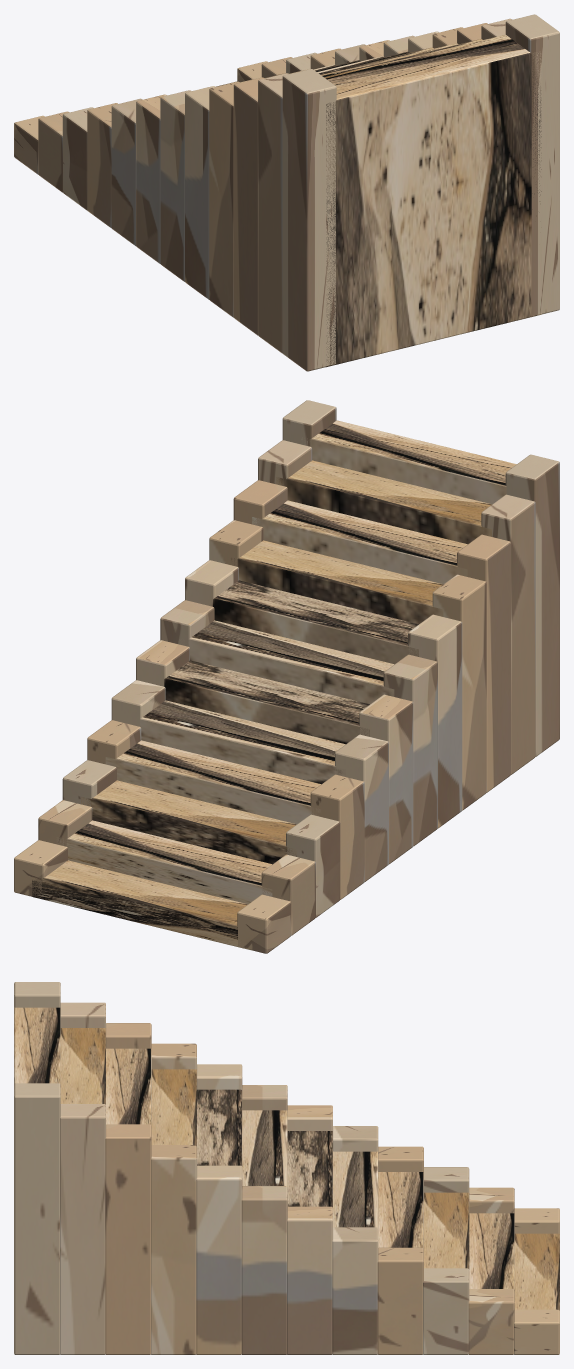
File: stairs_stone_narrow_2m_LOD1.glb
The picture shows the model from 3 angles, top to bottom: view 1: azimuth 30°, elevation 25°; view 2: azimuth 150°, elevation 25°; view 3: azimuth 270°, elevation 25°; orthographic projection. The views are drawn at different scales.
Visible parts, largest first — view 1: LOD1_Step.011, LOD1_Curb.022, LOD1_Curb.023, LOD1_Curb.020, LOD1_Curb.018, LOD1_Curb.016, LOD1_Curb.014, LOD1_Curb.012, LOD1_Curb.010, LOD1_Curb.008, LOD1_Curb.006, LOD1_Curb.004 (+2 smaller); view 2: LOD1_Step, LOD1_Step.010, LOD1_Step.009, LOD1_Step.003, LOD1_Step.001, LOD1_Step.002, LOD1_Step.008, LOD1_Step.006, LOD1_Step.005, LOD1_Step.004, LOD1_Step.007, LOD1_Step.011 (+24 smaller); view 3: LOD1_Curb.023, LOD1_Curb.021, LOD1_Curb.019, LOD1_Curb.017, LOD1_Curb.015, LOD1_Curb.013, LOD1_Curb.011, LOD1_Curb.009, LOD1_Curb.007, LOD1_Curb.005, LOD1_Step.011, LOD1_Step.002 (+24 smaller).
Part boxes in pixels (box(x1,y1,x2,y2)): LOD1_Step.011: box(325, 34, 541, 367); LOD1_Curb.022: box(282, 69, 336, 371); LOD1_Curb.023: box(505, 14, 559, 315); LOD1_Curb.020: box(258, 73, 288, 353); LOD1_Curb.018: box(233, 77, 264, 335); LOD1_Curb.016: box(209, 81, 240, 317); LOD1_Curb.014: box(185, 86, 215, 299); LOD1_Curb.012: box(160, 90, 191, 281); LOD1_Curb.010: box(136, 94, 166, 263); LOD1_Curb.008: box(111, 98, 142, 245); LOD1_Curb.006: box(87, 103, 117, 228); LOD1_Curb.004: box(62, 107, 93, 210); LOD1_Step: box(32, 860, 248, 949); LOD1_Step.010: box(276, 460, 491, 544); LOD1_Step.009: box(252, 500, 467, 584); LOD1_Step.003: box(105, 740, 320, 824); LOD1_Step.001: box(57, 820, 272, 904); LOD1_Step.002: box(81, 780, 296, 864); LOD1_Step.008: box(227, 540, 443, 624); LOD1_Step.006: box(179, 620, 394, 704); LOD1_Step.005: box(164, 660, 369, 744); LOD1_Step.004: box(140, 700, 345, 784); LOD1_Step.007: box(213, 580, 418, 664); LOD1_Step.011: box(301, 420, 516, 504); LOD1_Curb.023: box(14, 1083, 60, 1354); LOD1_Curb.021: box(60, 1104, 105, 1354); LOD1_Curb.019: box(105, 1124, 151, 1354); LOD1_Curb.017: box(151, 1145, 196, 1354); LOD1_Curb.015: box(196, 1165, 242, 1354); LOD1_Curb.013: box(241, 1186, 287, 1354); LOD1_Curb.011: box(287, 1206, 332, 1354); LOD1_Curb.009: box(332, 1227, 378, 1354); LOD1_Curb.007: box(377, 1247, 423, 1354); LOD1_Curb.005: box(423, 1268, 469, 1354); LOD1_Step.011: box(14, 1007, 60, 1083); LOD1_Step.002: box(424, 1192, 469, 1269).
Bounding box in the file's own units: 2 × 2.1 × 4.01.
2 materials, 2 textured.
